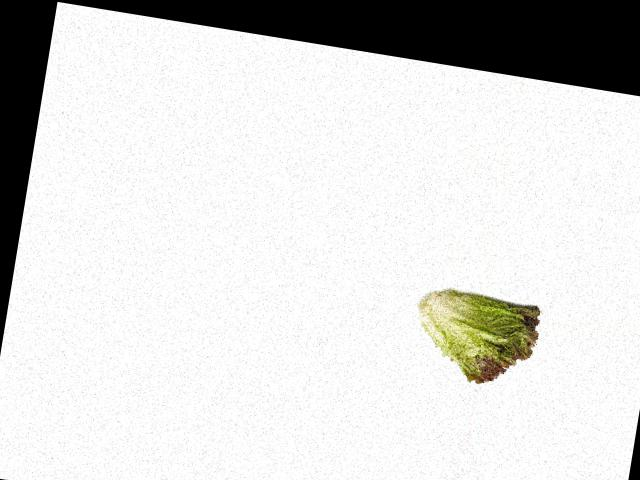lettuce: (409, 287, 545, 390)
